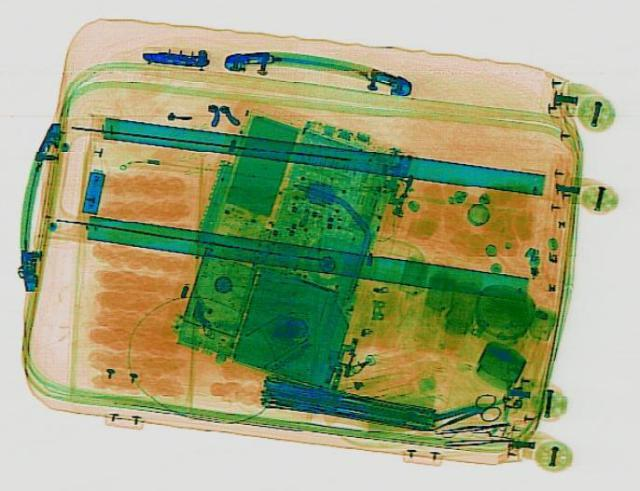Scissors: (418, 390, 508, 439)
